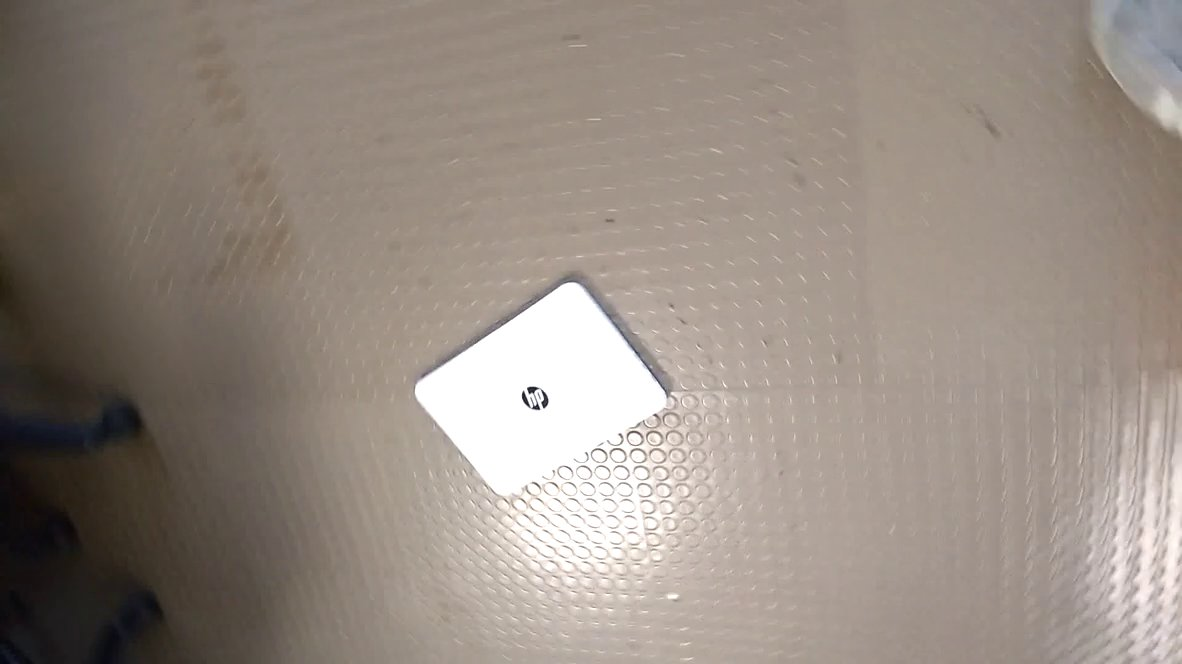laptop: (409, 273, 688, 507)
